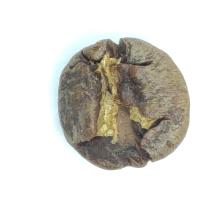NG: (80, 43, 185, 166)
